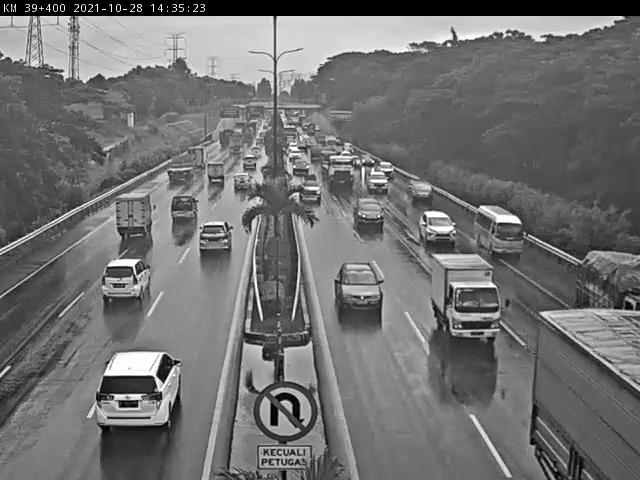big truck: (532, 303, 640, 480), (89, 255, 160, 317), (321, 158, 356, 196)
car: (74, 342, 191, 446), (105, 194, 154, 247), (338, 264, 383, 319), (162, 189, 201, 230), (194, 218, 234, 255), (416, 206, 457, 242), (293, 170, 326, 202), (352, 199, 386, 230), (369, 165, 395, 196), (406, 180, 437, 203), (200, 160, 226, 187), (229, 175, 254, 200), (242, 157, 258, 175)
small bus: (476, 206, 528, 257)
small truck: (429, 255, 504, 341), (576, 245, 640, 310), (162, 151, 195, 188)
